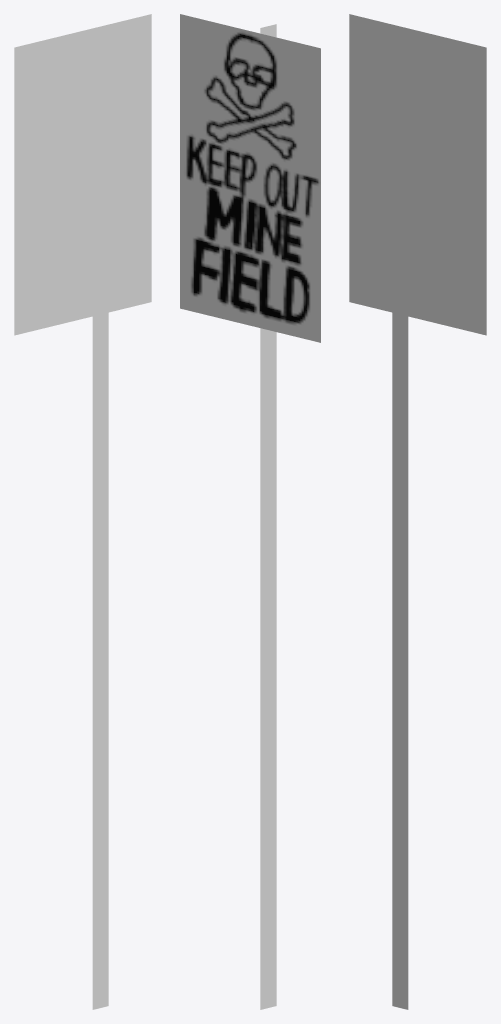
File: K_MINE.glb
3 views of the same model, side by side, from view 1: azimuth 30°, elevation 25°; view 2: azimuth 150°, elevation 25°; view 3: azimuth 330°, elevation 25° (orthographic). The views are drawn at different scales.
Visible parts, largest first — view 1: FRAME_ROOT; view 2: FRAME_ROOT; view 3: FRAME_ROOT.
Boxes of the visible parts, x1,y1,x2,y2 form: FRAME_ROOT: [14, 14, 151, 1009]; FRAME_ROOT: [180, 14, 320, 1009]; FRAME_ROOT: [349, 14, 486, 1009].
Bounding box in the file's own units: 1.5 × 10.04 × 0.3343.
Materials: 2 (2 with a texture image).
